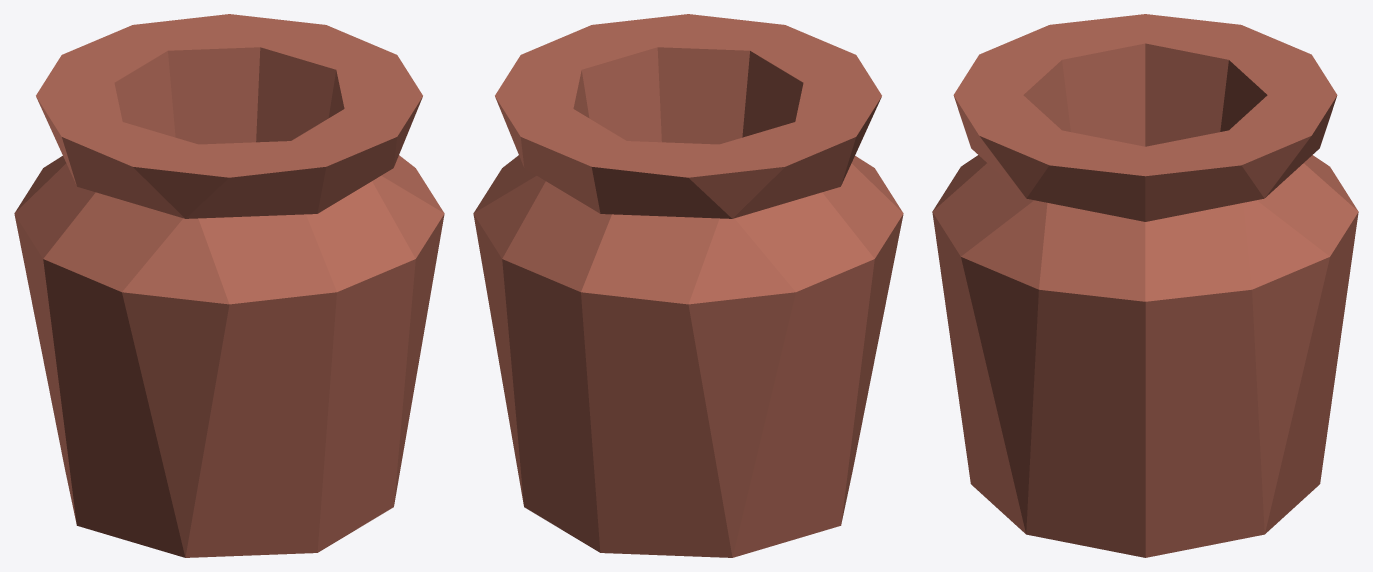
File: pot-big.glb
3 views of the same model, side by side, from view 1: azimuth 30°, elevation 25°; view 2: azimuth 150°, elevation 25°; view 3: azimuth 270°, elevation 25° (orthographic).
Visible parts, largest first — view 1: pot_1.002; view 2: pot_1.002; view 3: pot_1.002.
Part boxes in pixels (x1,y1,x2,y2): pot_1.002: (14, 14, 444, 557); pot_1.002: (473, 14, 903, 557); pot_1.002: (932, 14, 1358, 557).
Bounding box in the file's own units: 0.294 × 0.2961 × 0.294.
